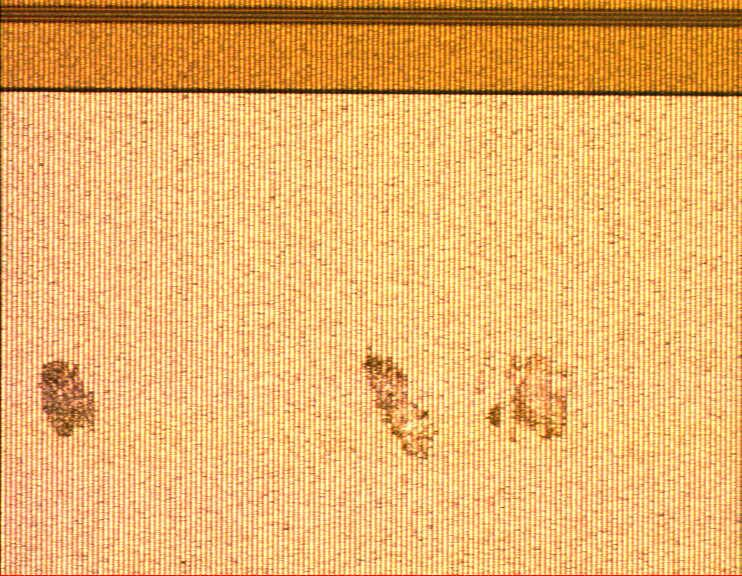SCRATCH: (33, 341, 579, 465)
